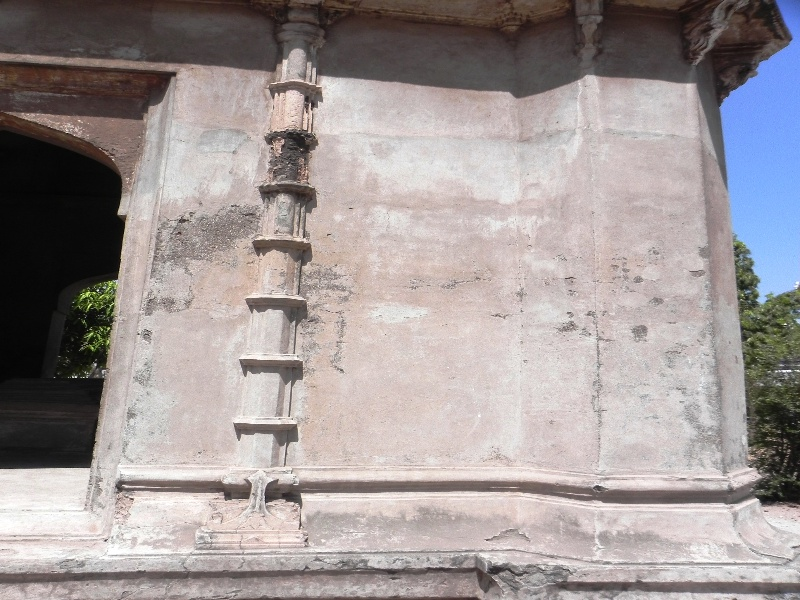Spalling: (156, 194, 257, 263), (262, 123, 321, 188)
